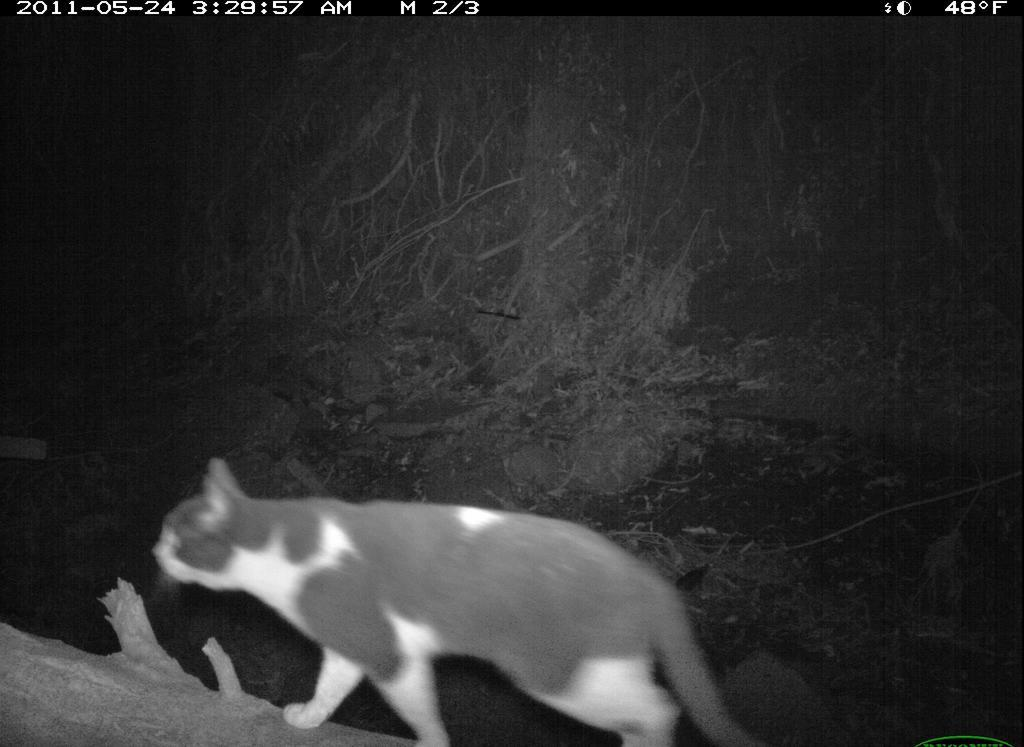cat: (139, 447, 781, 747)
